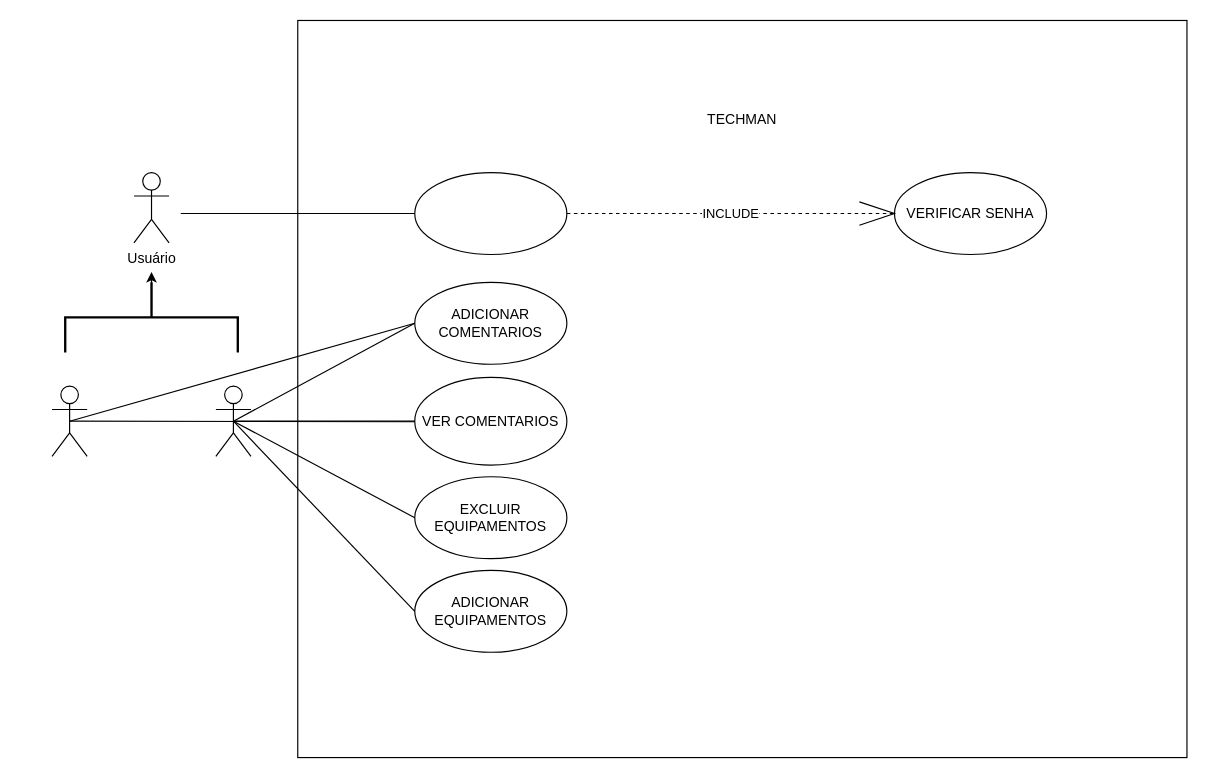
Image size: 1207x778. Some labels were removed from this diagram. Each missing label, with the box of its shape:
ADM: (215, 385, 251, 456)
FAZER LOGIN: (414, 171, 567, 254)
FUNCIONÁRIO: (51, 385, 87, 456)
